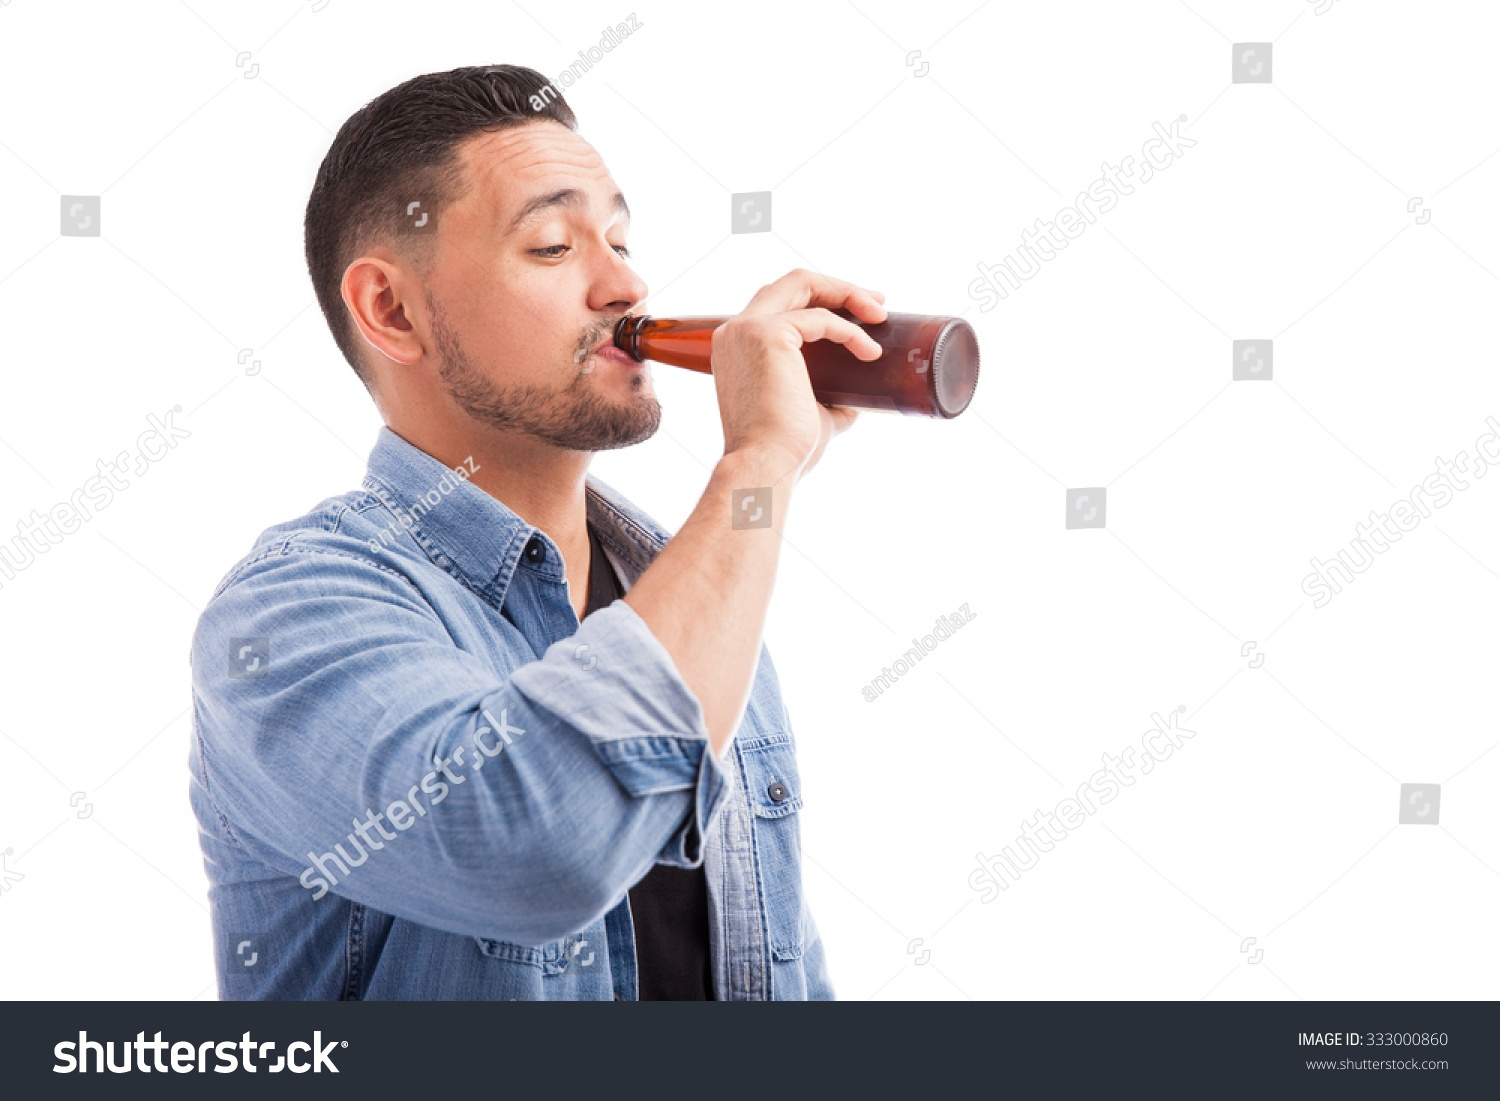beerBottle: (610, 311, 988, 419)
